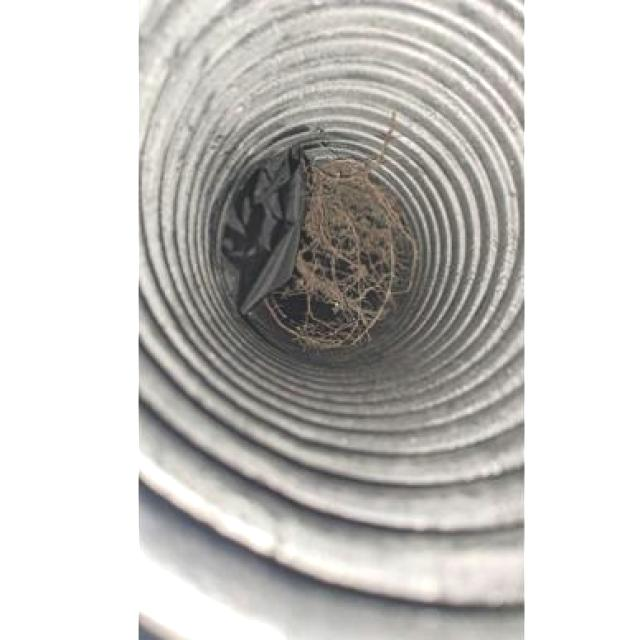root: (314, 161, 401, 336)
